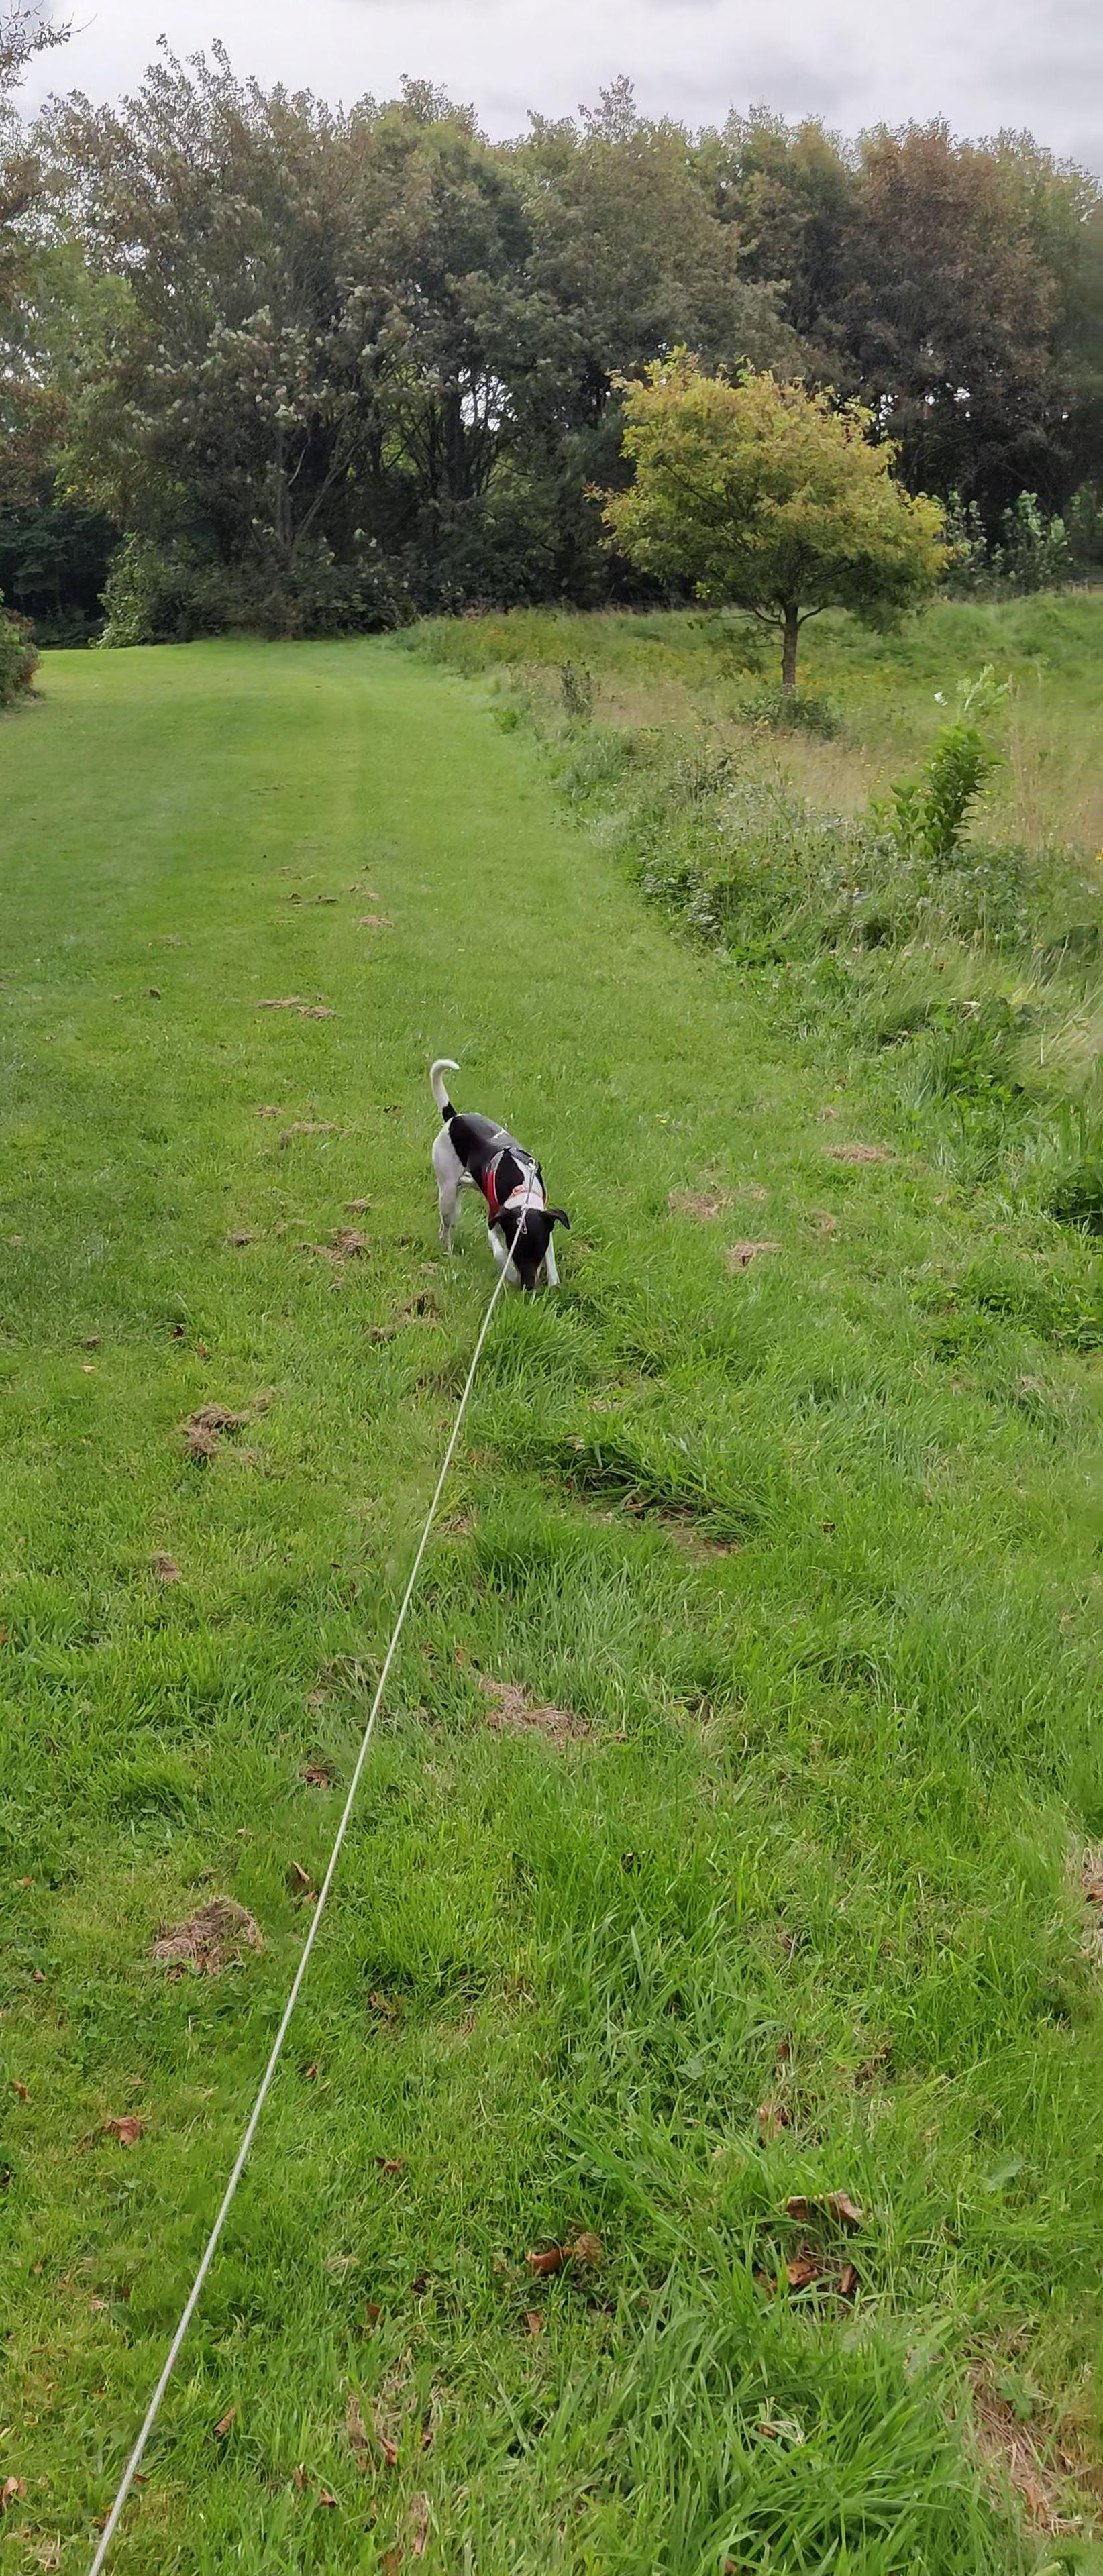Dog: (424, 1056, 574, 1293)
